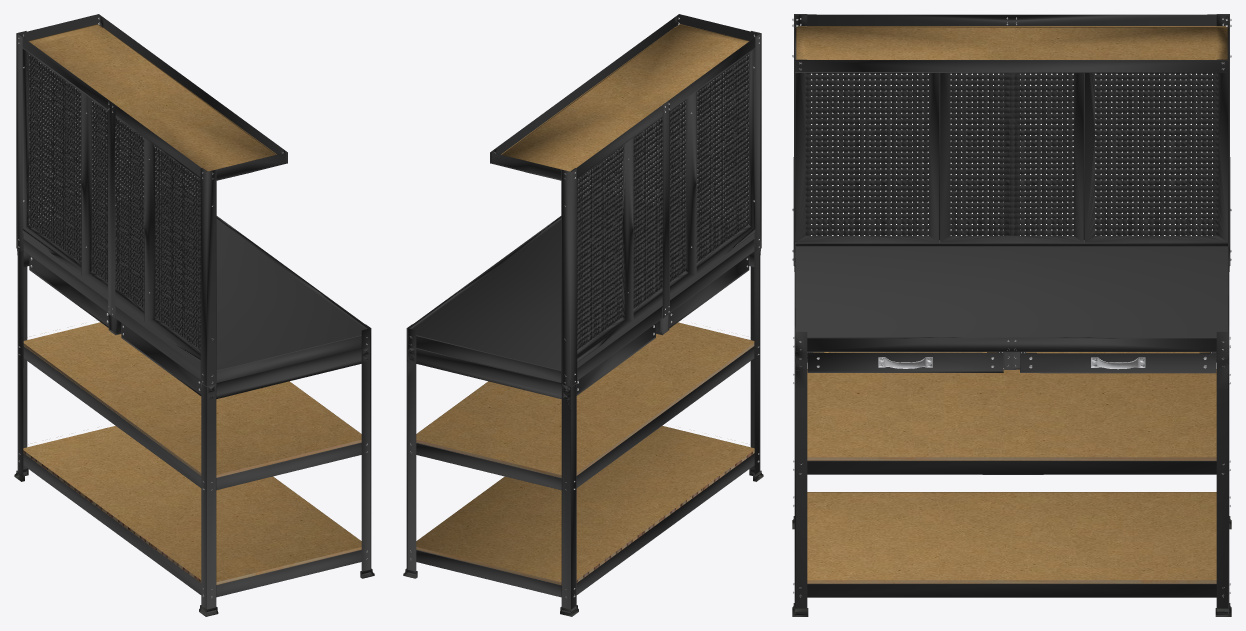
The model's file is mesa_trabajo.glb.
3 views of the same model, side by side, from view 1: azimuth 30°, elevation 25°; view 2: azimuth 150°, elevation 25°; view 3: azimuth 270°, elevation 25° (orthographic). The views are drawn at different scales.
Parts seen in each view (by area): view 1: sm_furniture_workbench_standard_d01_01; view 2: sm_furniture_workbench_standard_d01_01; view 3: sm_furniture_workbench_standard_d01_01.
Part boxes in pixels (<box>): sm_furniture_workbench_standard_d01_01: <box>14,14,374,616</box>; sm_furniture_workbench_standard_d01_01: <box>403,14,763,616</box>; sm_furniture_workbench_standard_d01_01: <box>792,14,1231,616</box>.
Bounding box in the file's own units: 0.6433 × 1.56 × 1.22.
Materials: 11 (8 with a texture image).
